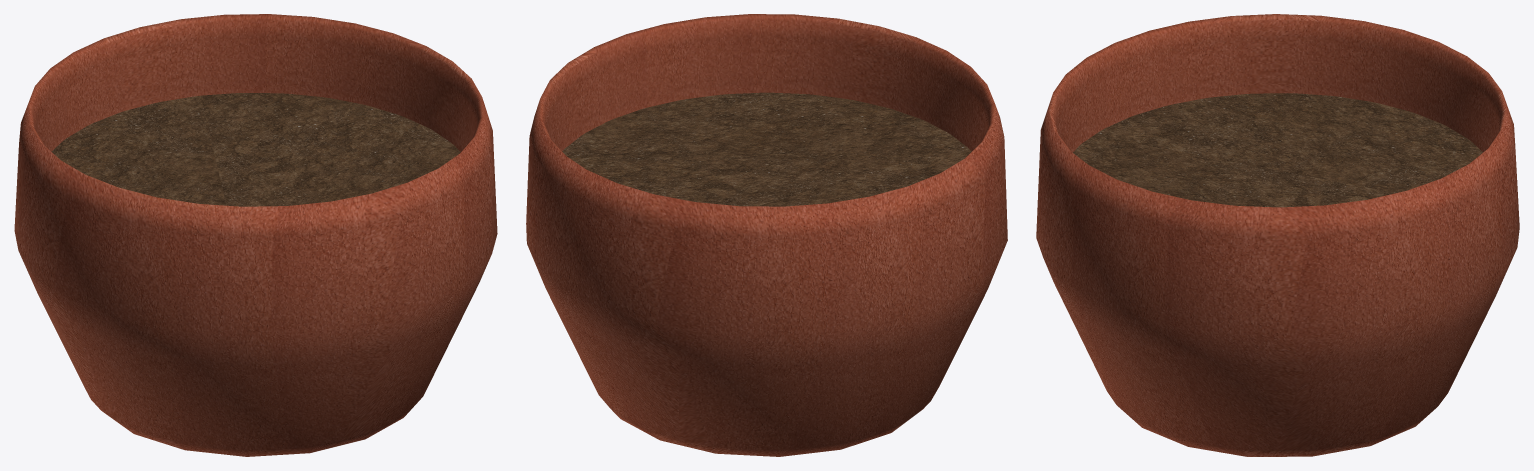
Rendered from pot.fbx.
The picture shows the model from 3 angles, left to right: view 1: azimuth 30°, elevation 25°; view 2: azimuth 150°, elevation 25°; view 3: azimuth 270°, elevation 25°; orthographic projection.
Visible parts, largest first — view 1: Pot, Ground; view 2: Pot, Ground; view 3: Pot, Ground.
Part boxes in pixels (x1=…): Pot: x1=14, y1=14, x2=497, y2=456; Ground: x1=51, y1=93, x2=460, y2=206; Pot: x1=526, y1=14, x2=1007, y2=456; Ground: x1=562, y1=92, x2=971, y2=206; Pot: x1=1036, y1=14, x2=1519, y2=456; Ground: x1=1073, y1=93, x2=1482, y2=207.
Bounding box in the file's own units: 30.13 × 19.41 × 30.13.
